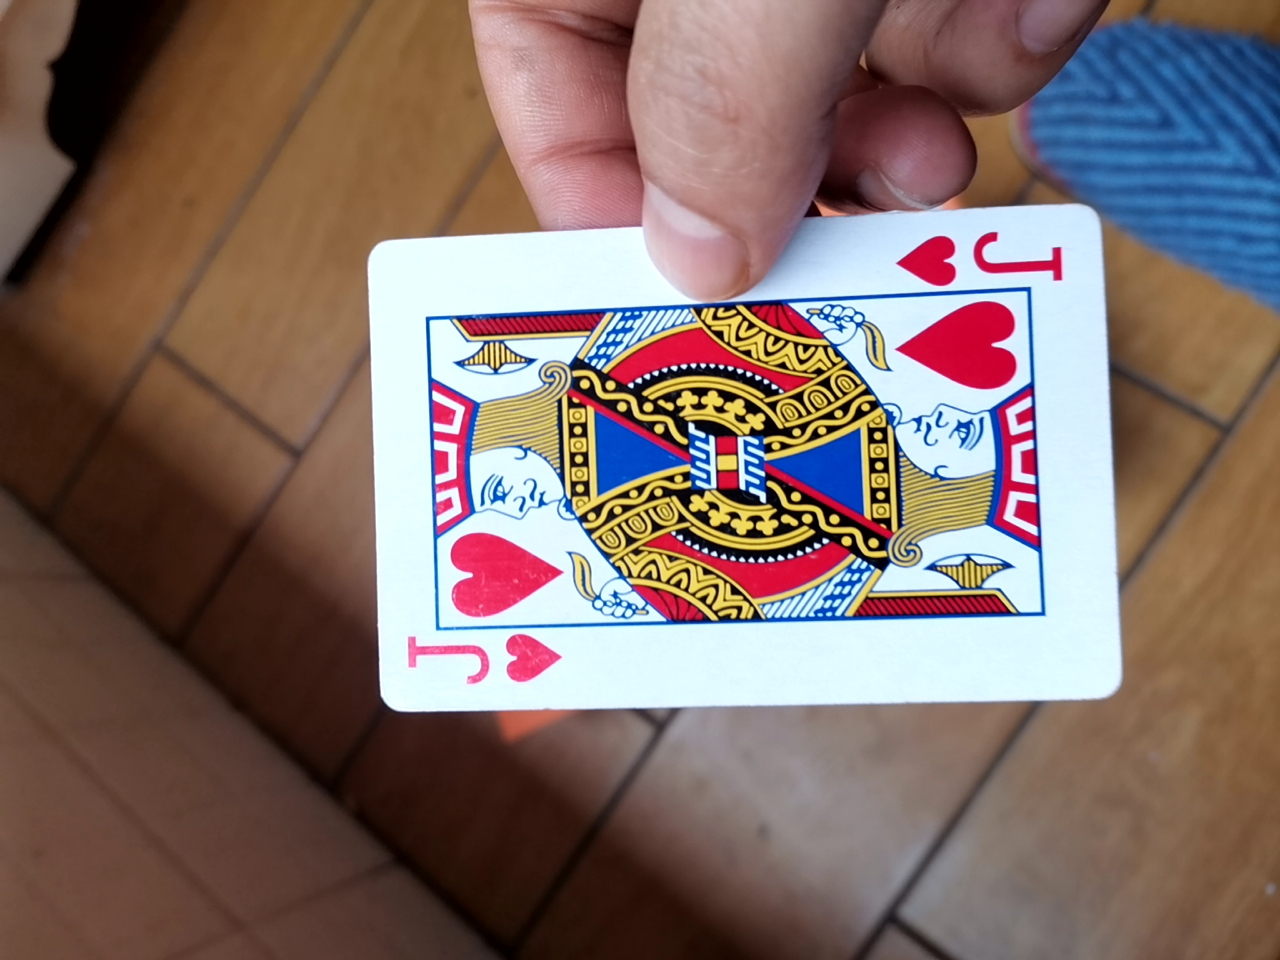hx j: (340, 197, 1122, 734)
